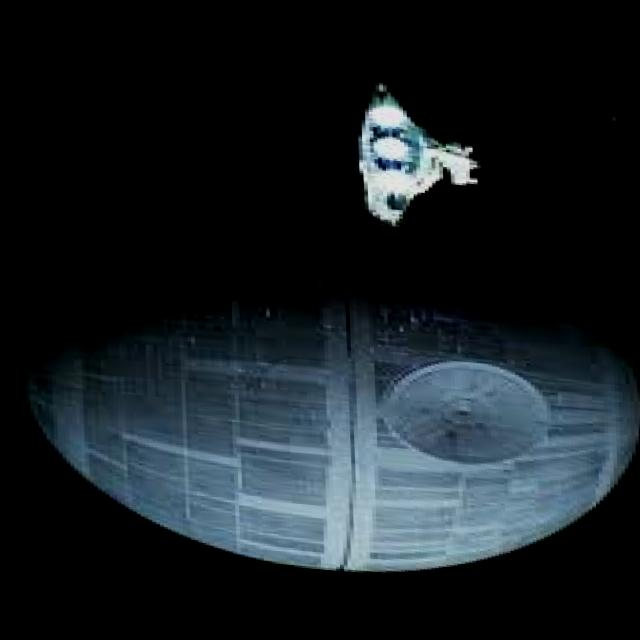deathStar: (12, 220, 640, 584)
